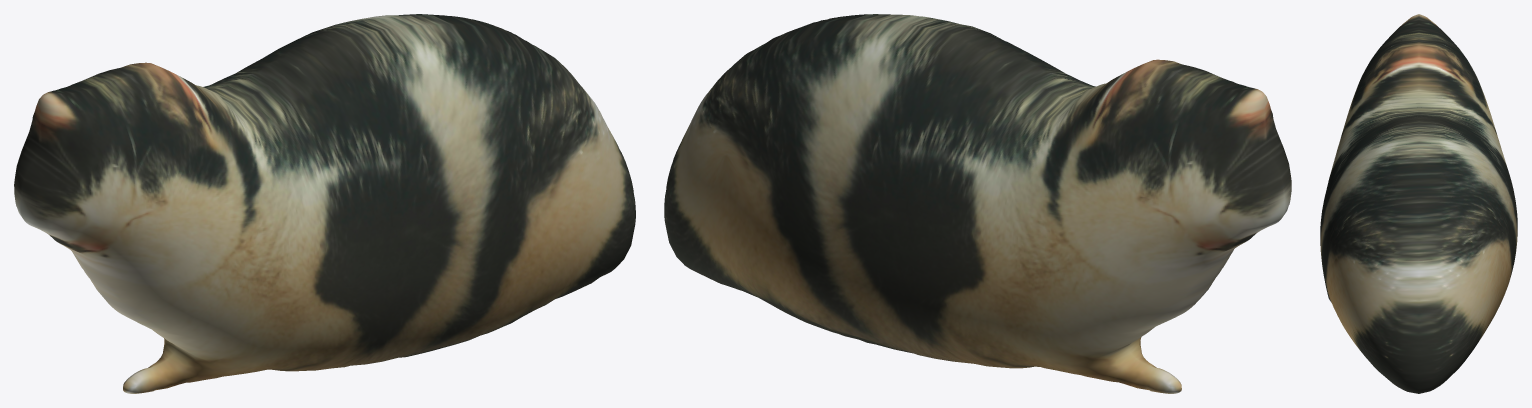
Rendered from mm_cat - 複製.glb.
3 views of the same model, side by side, from view 1: azimuth 30°, elevation 25°; view 2: azimuth 150°, elevation 25°; view 3: azimuth 270°, elevation 25° (orthographic). The views are drawn at different scales.
Bounding box in the file's own units: 5.19 × 2.72 × 2.22.
1 material, 1 textured.
